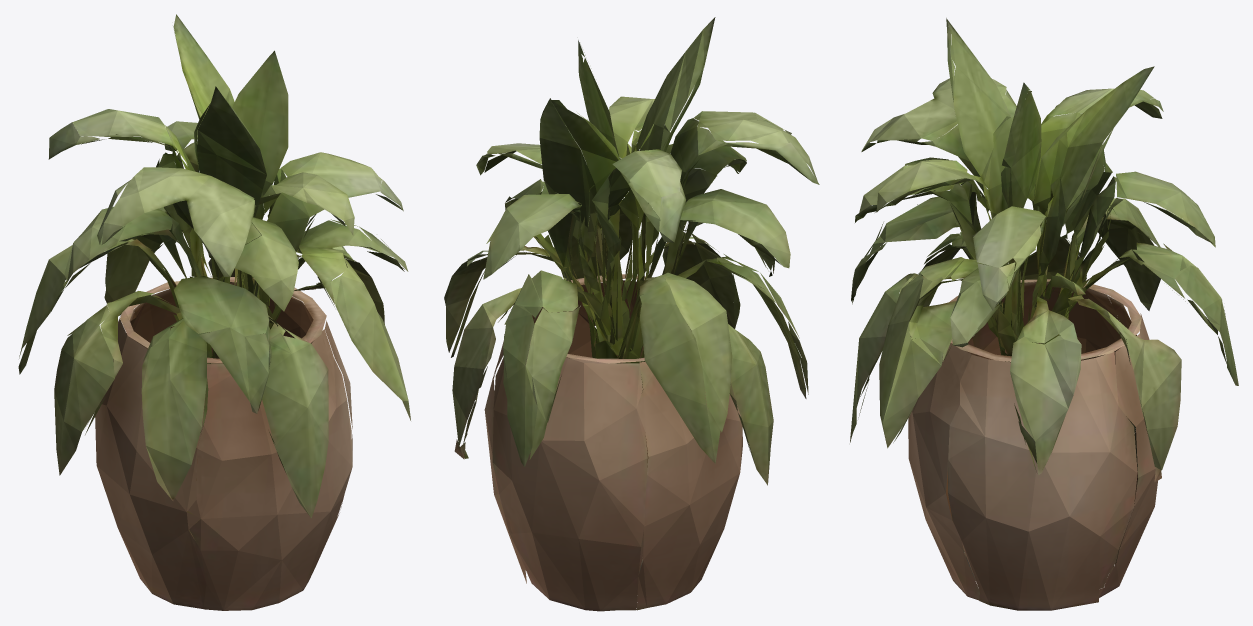
The model's file is c-plante.glb.
3 renders of one model, left to right at view 1: azimuth 30°, elevation 25°; view 2: azimuth 150°, elevation 25°; view 3: azimuth 270°, elevation 25°, orthographic.
Parts seen in each view (by area): view 1: geometry_0; view 2: geometry_0; view 3: geometry_0.
Boxes of the visible parts, x1,y1,x2,y2 form: geometry_0: [18, 14, 410, 610]; geometry_0: [444, 17, 819, 611]; geometry_0: [850, 18, 1238, 610].
Size of the model in its own units: 0.6416 by 1 by 0.6598.
Materials: 1 (1 with a texture image).
